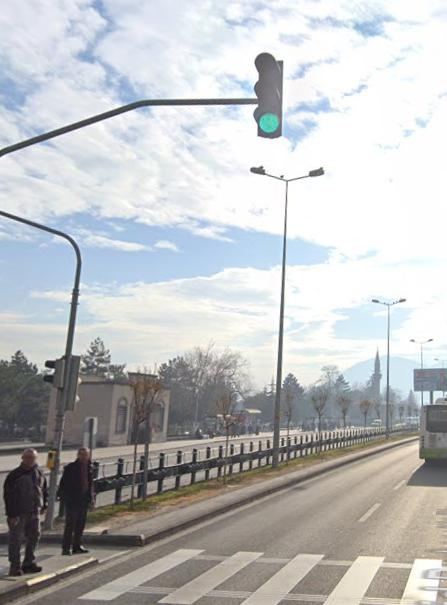greenlight: (254, 54, 286, 138)
